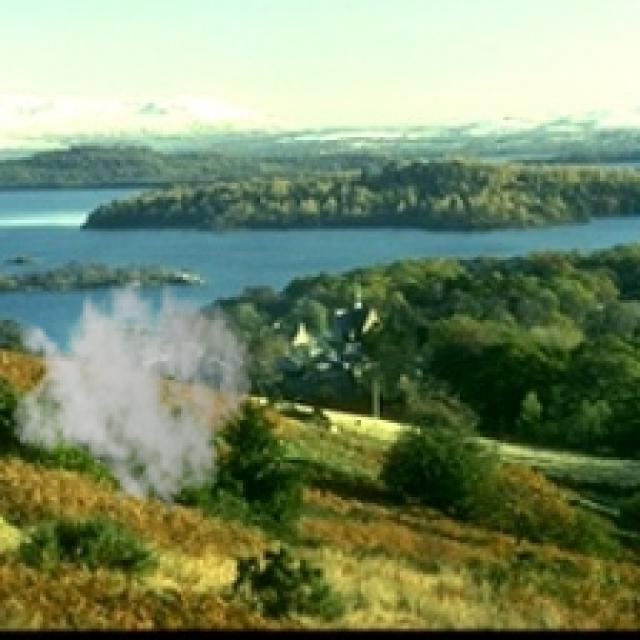smoke: (9, 252, 254, 514)
